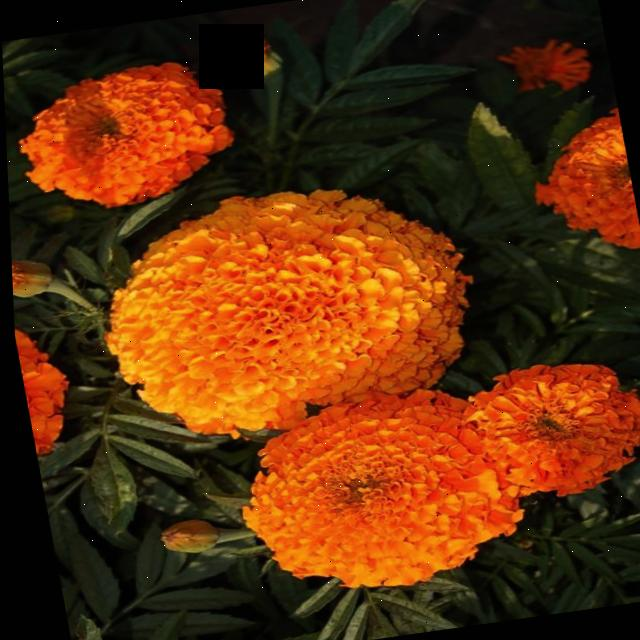marigold: (0, 0, 640, 534), (97, 274, 640, 630)
